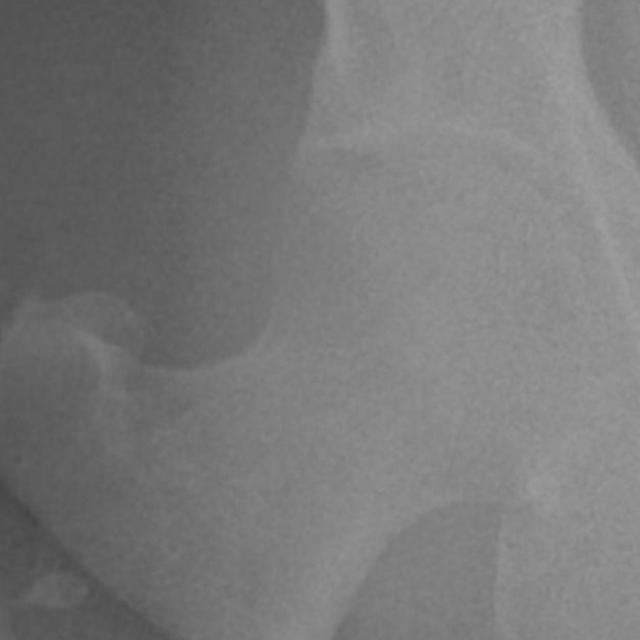Fitted_femural_head: (353, 159, 432, 353)
